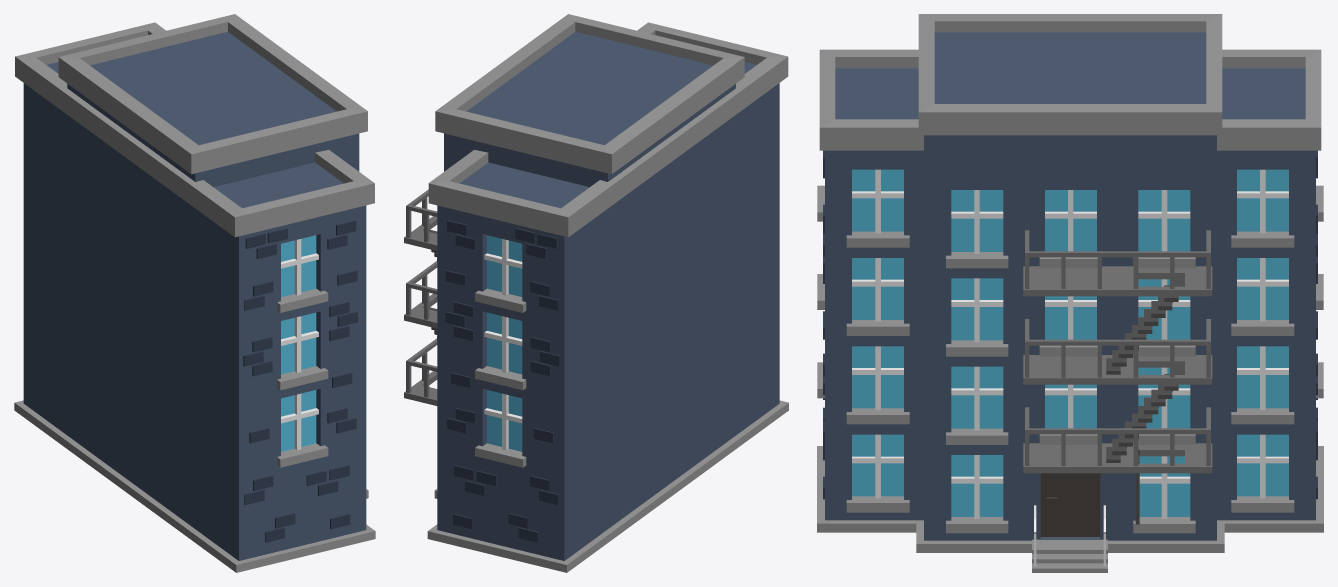
Rendered from Predio4.fbx.
3 renders of one model, left to right at view 1: azimuth 30°, elevation 25°; view 2: azimuth 150°, elevation 25°; view 3: azimuth 270°, elevation 25°, orthographic. The views are drawn at different scales.
Visible parts, largest first — view 1: Cube, Cube.013, Cube.064, Cube.003; view 2: Cube, Cube.013, Cube.005, Cube.064, Cube.003; view 3: Cube, Cube.005, Cube.064, Cube.001, Cube.002, Cube.003, Cube.011, Cube.006, Cube.026, Cube.013.
Boxes of the visible parts, left/top/right/bottom form: Cube: left=14, top=14, right=375, bottom=572; Cube.013: left=243, top=220, right=357, bottom=542; Cube.064: left=277, top=288, right=328, bottom=467; Cube.003: left=281, top=239, right=318, bottom=450; Cube: left=427, top=14, right=788, bottom=572; Cube.013: left=445, top=220, right=559, bottom=542; Cube.005: left=404, top=189, right=437, bottom=405; Cube.064: left=475, top=288, right=526, bottom=467; Cube.003: left=484, top=239, right=522, bottom=450; Cube: left=817, top=14, right=1323, bottom=552; Cube.005: left=1023, top=230, right=1212, bottom=473; Cube.064: left=817, top=185, right=1323, bottom=512; Cube.001: left=946, top=252, right=1195, bottom=533; Cube.002: left=951, top=190, right=1190, bottom=518; Cube.003: left=852, top=169, right=1288, bottom=498; Cube.011: left=1032, top=539, right=1107, bottom=572; Cube.006: left=1106, top=366, right=1184, bottom=462; Cube.026: left=1106, top=277, right=1184, bottom=374; Cube.013: left=823, top=150, right=1317, bottom=499.
Bounding box in the file's own units: 3901 × 6835 × 7066.
